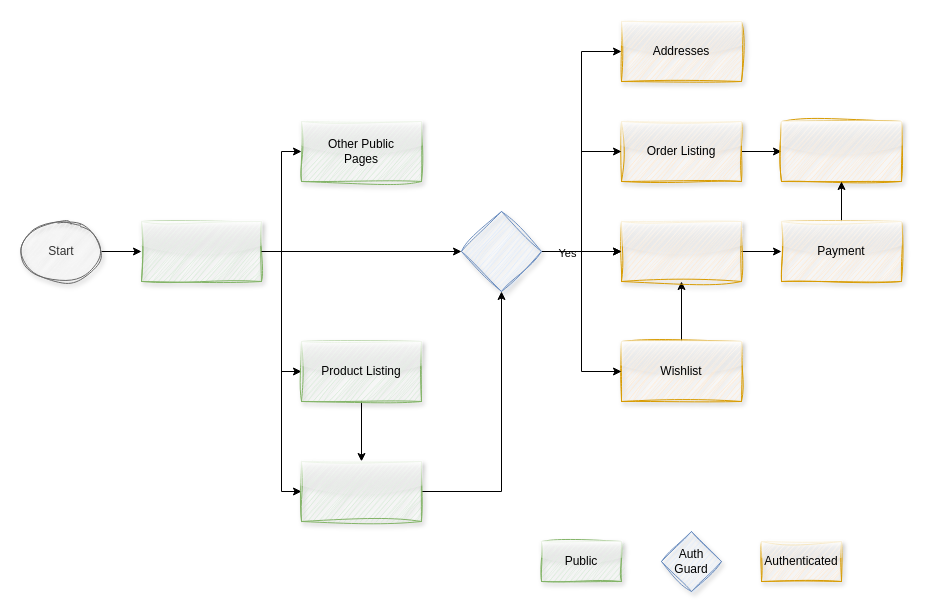
The diagram is 925 pixels wide and 616 high, and some of its shapes have lost their labels. The centre of each missing label's shape, as x and y in pixels:
"Cart" belongs at [682,252].
"Homepage" belongs at [202,252].
"Order Details" belongs at [842,152].
"Product Details" belongs at [362,492].
"Sign In" belongs at [502,252].
